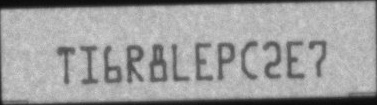2: (263, 39, 282, 79)
6: (103, 44, 122, 83)
7: (309, 40, 327, 76)
8: (148, 41, 166, 83)
C: (241, 40, 258, 81)
E: (285, 37, 305, 79), (194, 41, 213, 81)
I: (79, 45, 99, 85)
L: (170, 43, 190, 80)
P: (216, 41, 236, 80)
R: (126, 44, 144, 84)
T: (56, 45, 77, 85)
